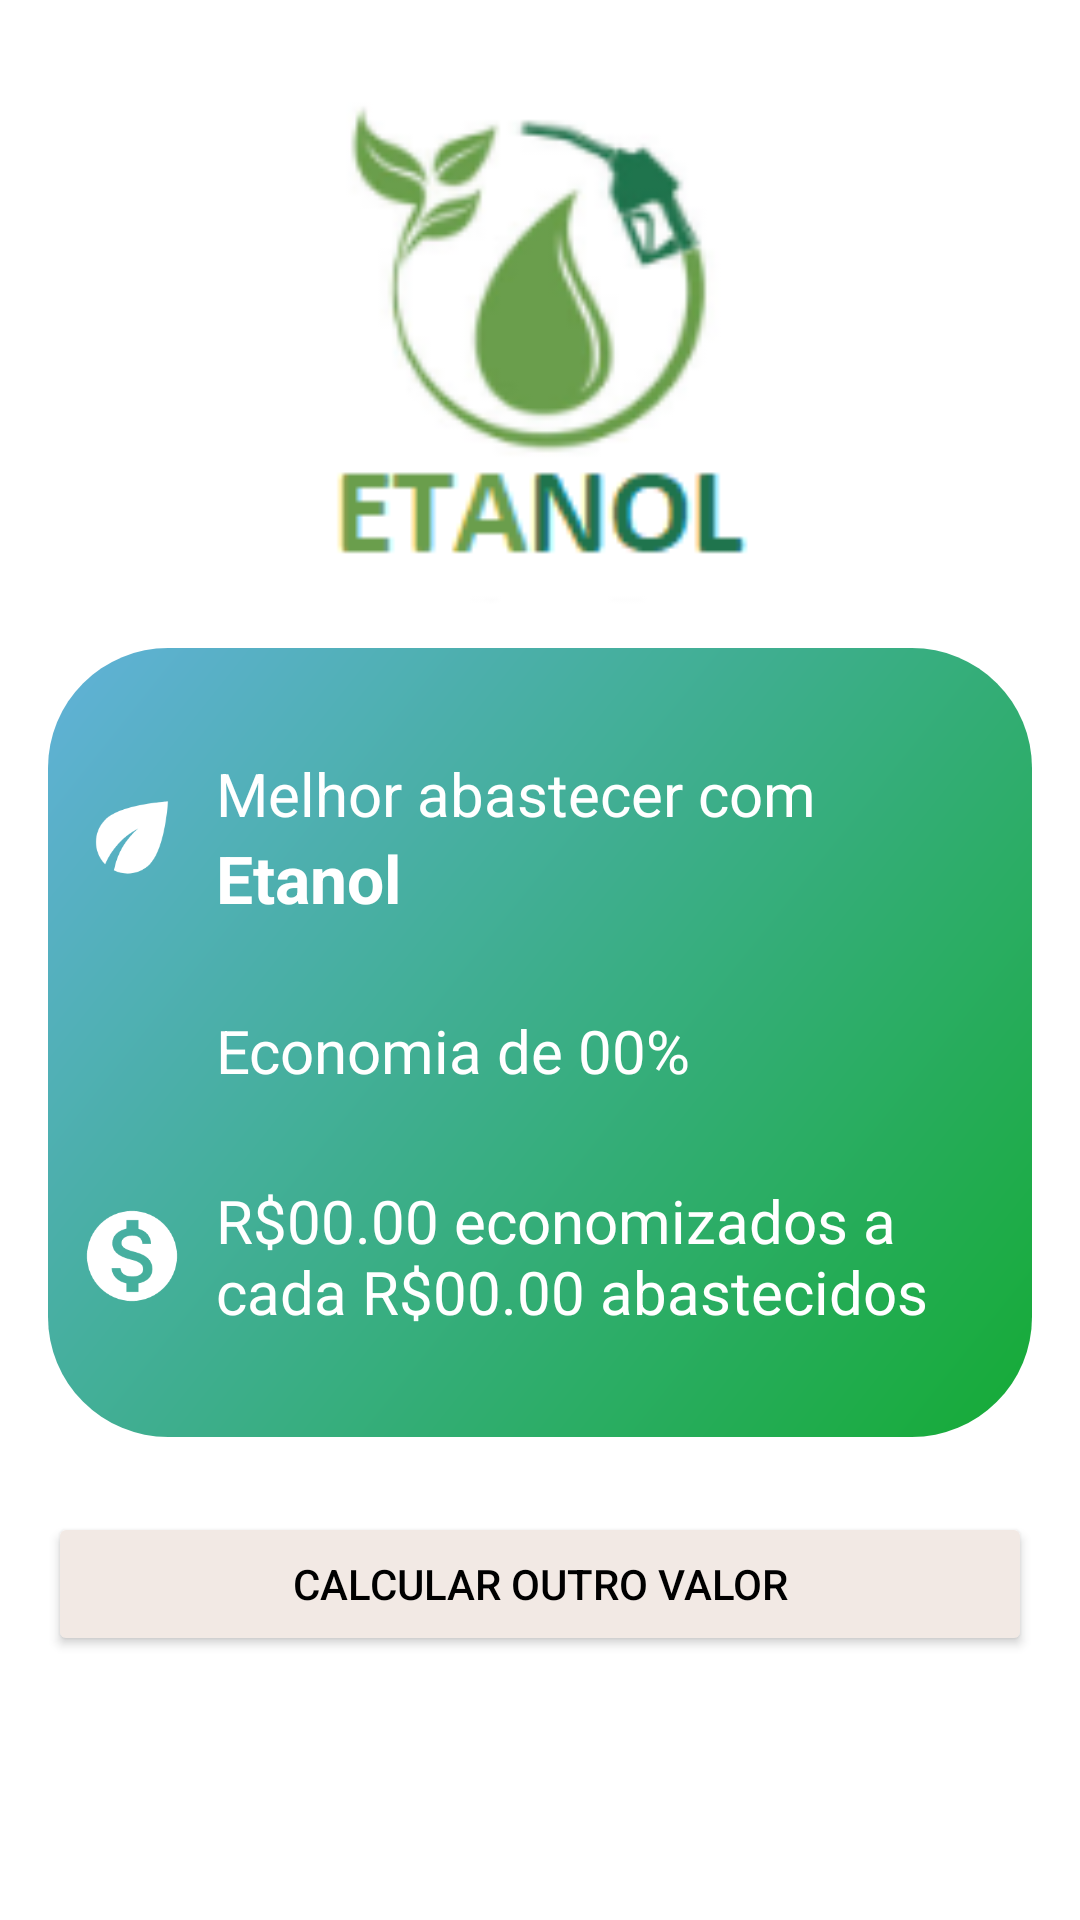

Locate icon controls on the screen. Image size 1080 × 1920, boxes as (left=x1, top=y1, right=x2, bottom=y2).
dinheiro branco: (left=87, top=1211, right=177, bottom=1301)
